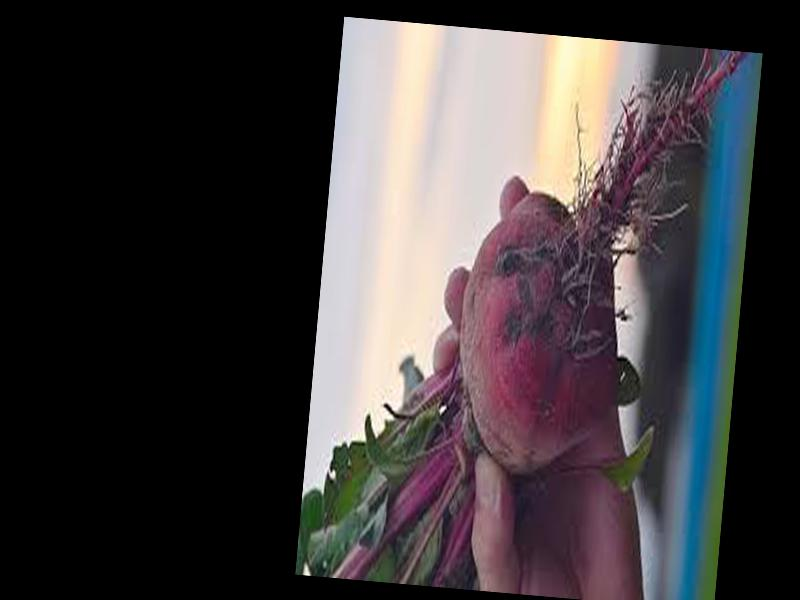Beet: (297, 16, 743, 600)
